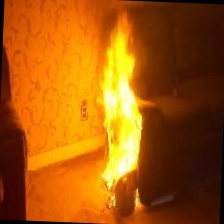fire: (93, 7, 143, 189)
